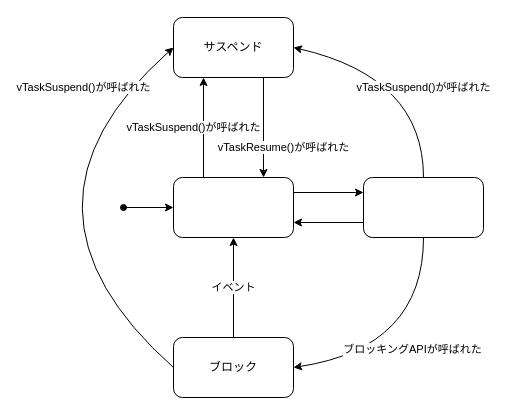
Some shapes in this 508 by 415 pixel diagram are drawn without their labels. The centre of each missing label's shape, as x and y in pixels:
レディ: the point at 233,207
実行中: the point at 423,207
